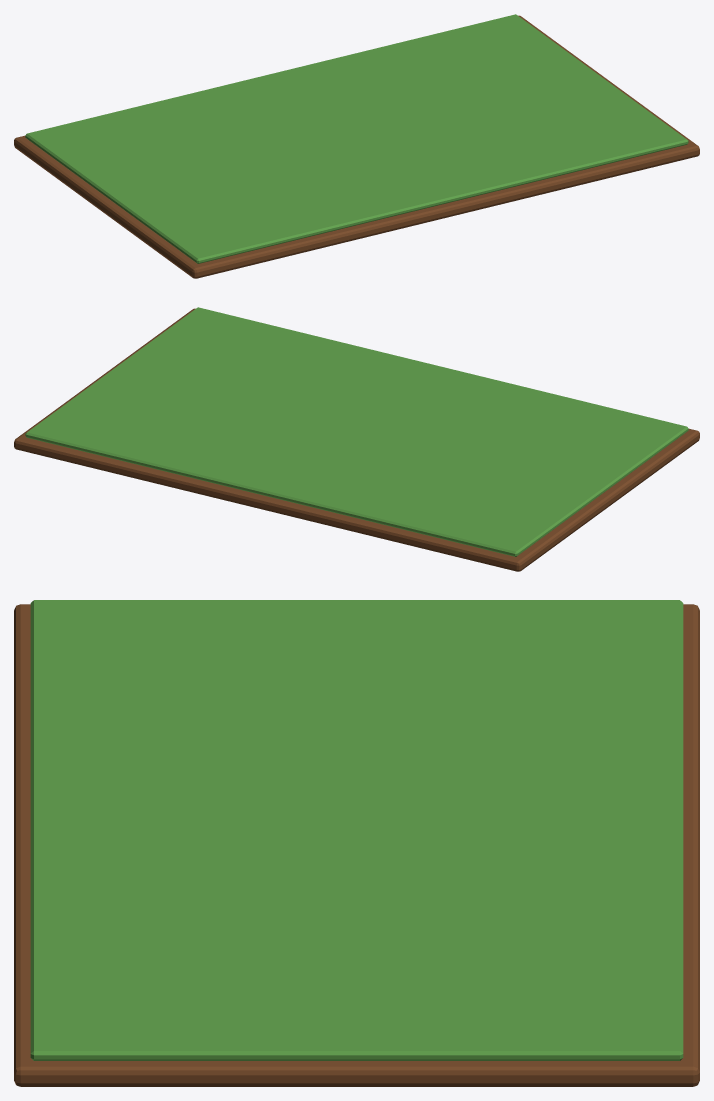
The model's file is TownBase.fbx.
The picture shows the model from 3 angles, top to bottom: view 1: azimuth 30°, elevation 25°; view 2: azimuth 150°, elevation 25°; view 3: azimuth 270°, elevation 25°; orthographic projection. The views are drawn at different scales.
Parts seen in each view (by area): view 1: TownBase_Grass, TownBase_Board; view 2: TownBase_Grass, TownBase_Board; view 3: TownBase_Grass, TownBase_Board.
Boxes of the visible parts, x1,y1,x2,y2 form: TownBase_Grass: (25, 14, 688, 263); TownBase_Board: (14, 15, 699, 278); TownBase_Grass: (25, 307, 688, 556); TownBase_Board: (14, 308, 699, 571); TownBase_Grass: (30, 600, 683, 1060); TownBase_Board: (14, 604, 699, 1086).
Size of the model in its own units: 1 by 0.03 by 0.62.
